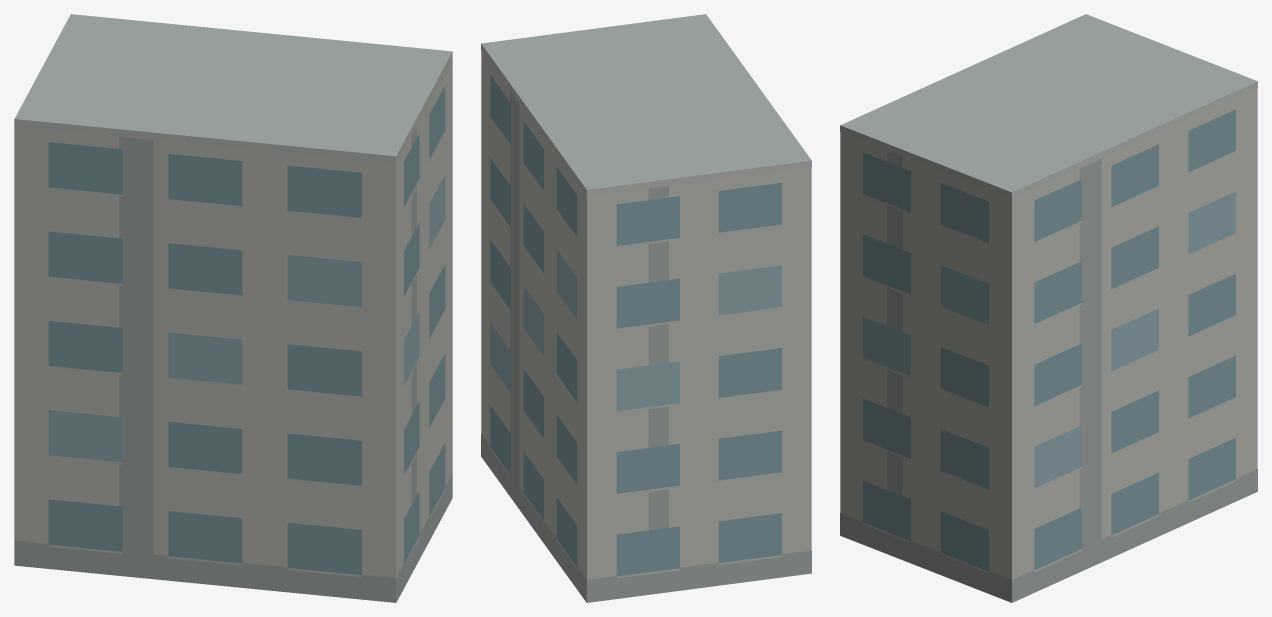
Rendered from survey-upis-32749476.glb.
The picture shows the model from 3 angles, left to right: view 1: azimuth 30°, elevation 25°; view 2: azimuth 150°, elevation 25°; view 3: azimuth 270°, elevation 25°; orthographic projection. The views are drawn at different scales.
Visible parts, largest first — view 1: survey-upis-32749476.tmp; view 2: survey-upis-32749476.tmp; view 3: survey-upis-32749476.tmp.
Part boxes in pixels (x1,y1,x2,y2): survey-upis-32749476.tmp: (14,14,452,602); survey-upis-32749476.tmp: (481,14,811,602); survey-upis-32749476.tmp: (840,14,1257,602).
Bounding box in the file's own units: 13.62 × 14.6 × 13.47.
